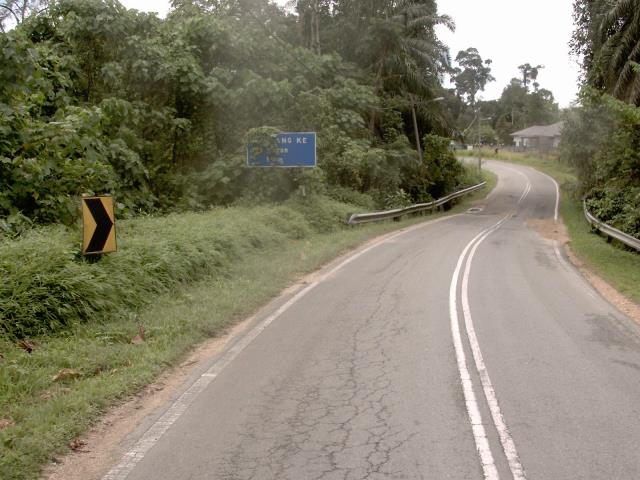traffic_sign: (71, 186, 125, 264)
